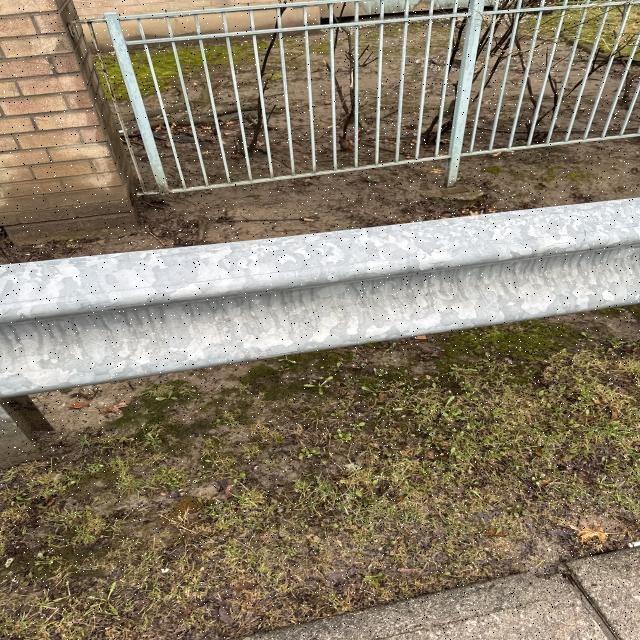Guard rail: (25, 208, 640, 377)
